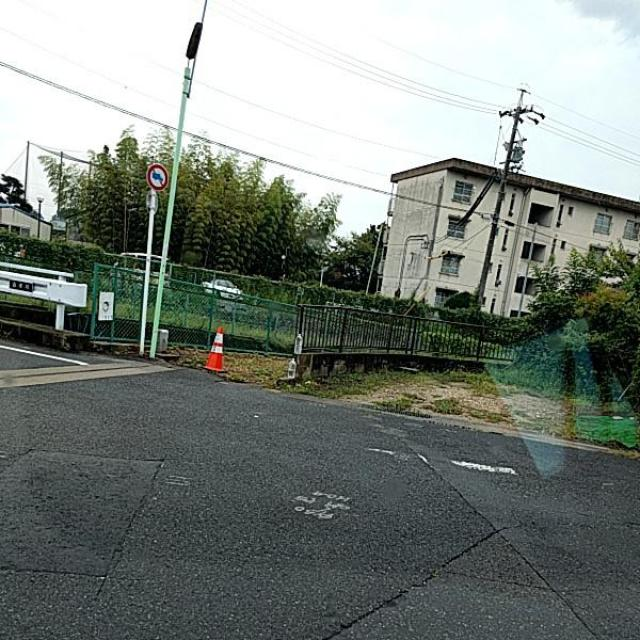Crack: (27, 353, 640, 639)
